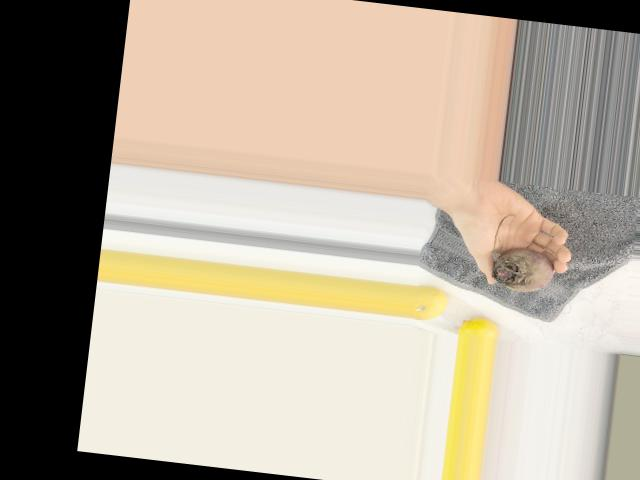beet: (491, 212, 561, 295)
